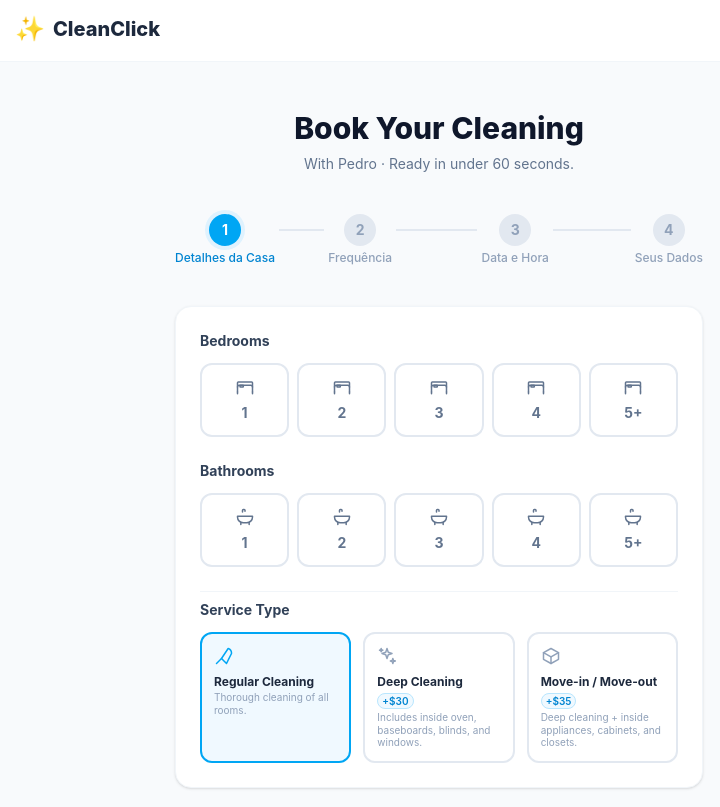
Test: Step 0 — House Details (Stitch similarity) › service cards mostram preços quando bed+bath selecionados
The width and height of the screenshot is (720, 807).
What coordinates should you click on to do the following:
click the button "2" below "Bedrooms"
I would click on:
 (342, 400)
Its box is [297,363,386,437].
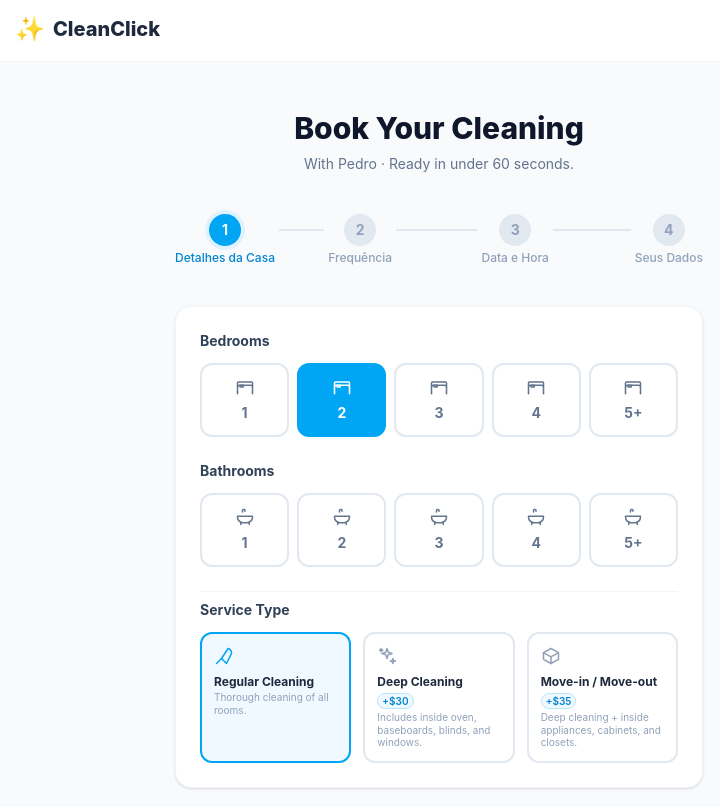
What coordinates should you click on to do the following:
click the button "2" below "Bathrooms"
I would click on:
 (342, 530)
Its box is [297,493,386,567].
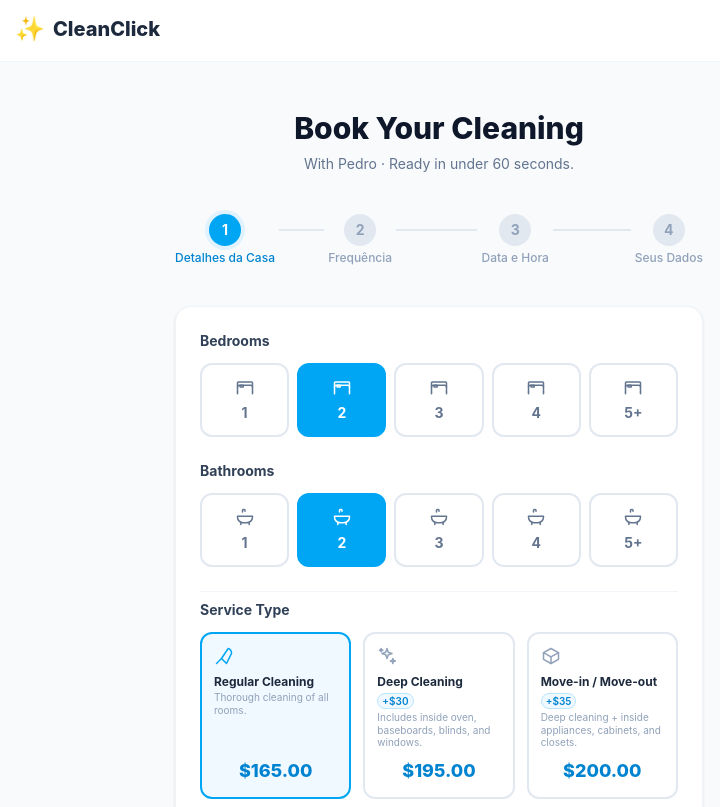
Expected: the text "$165.00" is shown, [239,760,312,780]
